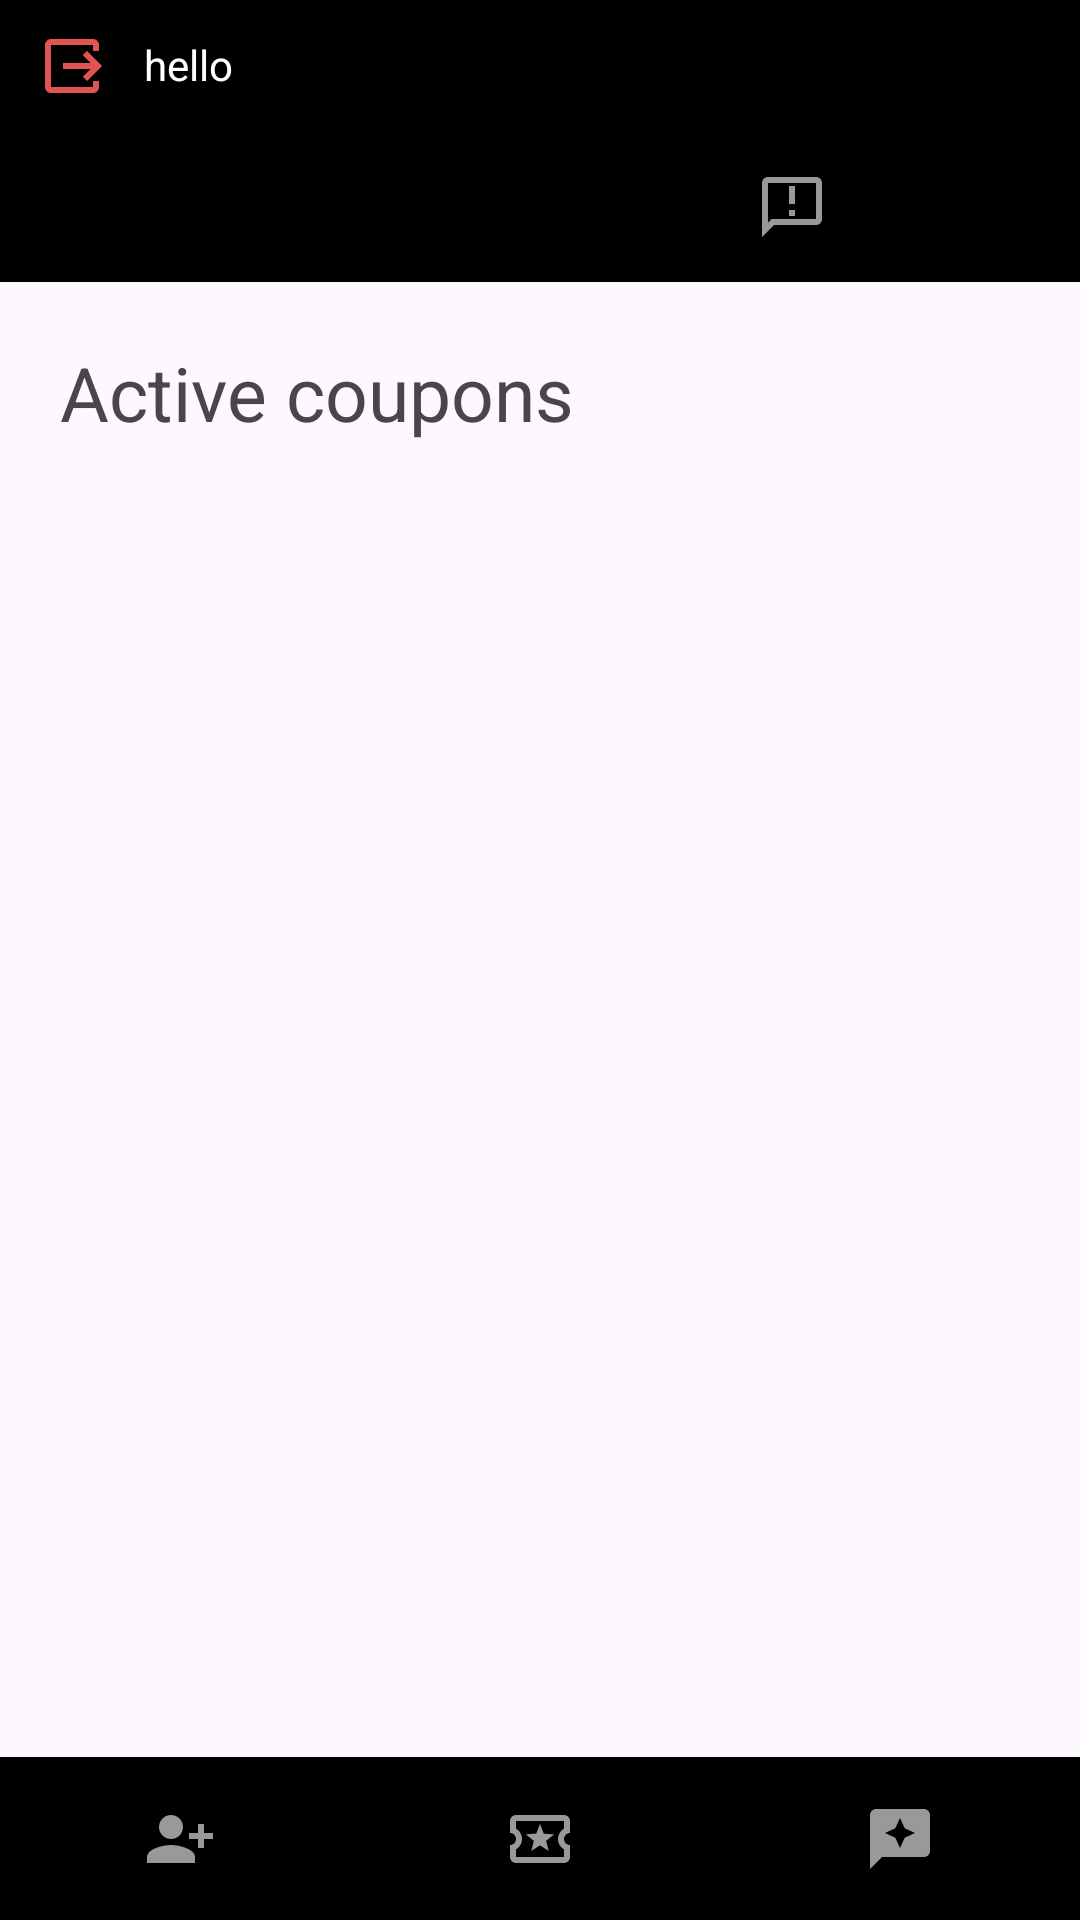

Icon bounding boxes for this 1080 × 1920 phone screenshot, format (x1, y1, x2, y2):
announcement: (762, 177, 822, 237)
local activity: (510, 1815, 570, 1863)
output: (45, 39, 102, 93)
person add: (147, 1815, 213, 1863)
reviews: (870, 1809, 930, 1869)
